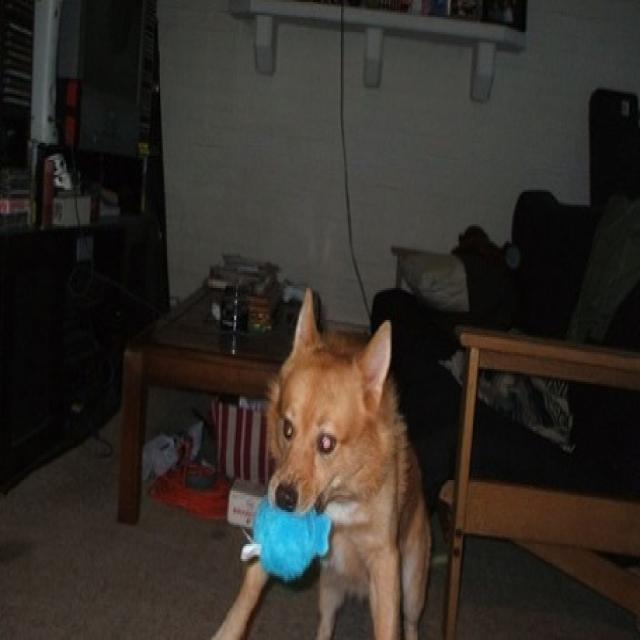Table: (89, 266, 343, 524)
chair: (416, 169, 640, 621)
dog: (213, 315, 433, 640)
